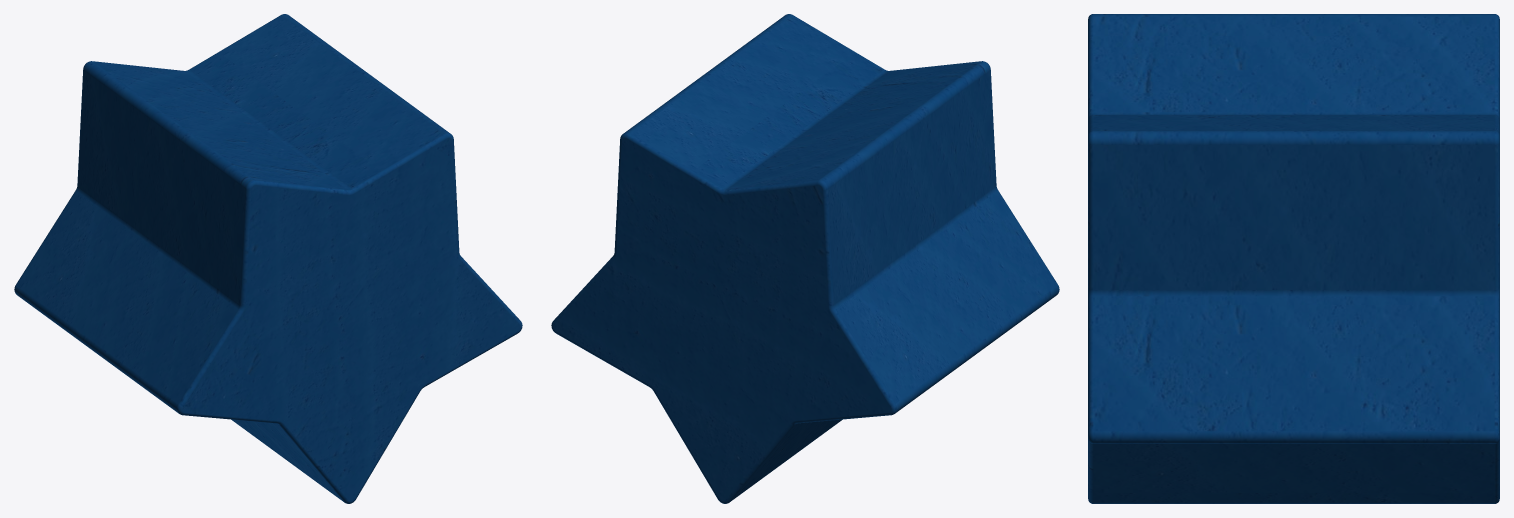
File: star.glb
The picture shows the model from 3 angles, left to right: view 1: azimuth 30°, elevation 25°; view 2: azimuth 150°, elevation 25°; view 3: azimuth 270°, elevation 25°; orthographic projection. The views are drawn at different scales.
Parts seen in each view (by area): view 1: star_2; view 2: star_2; view 3: star_2.
Boxes of the visible parts, <box> form: star_2: <box>14,14,522,503</box>; star_2: <box>551,14,1059,503</box>; star_2: <box>1088,14,1499,503</box>.
Size of the model in its own units: 0.0479 by 0.0461 by 0.04.
Materials: 1 (1 with a texture image).
